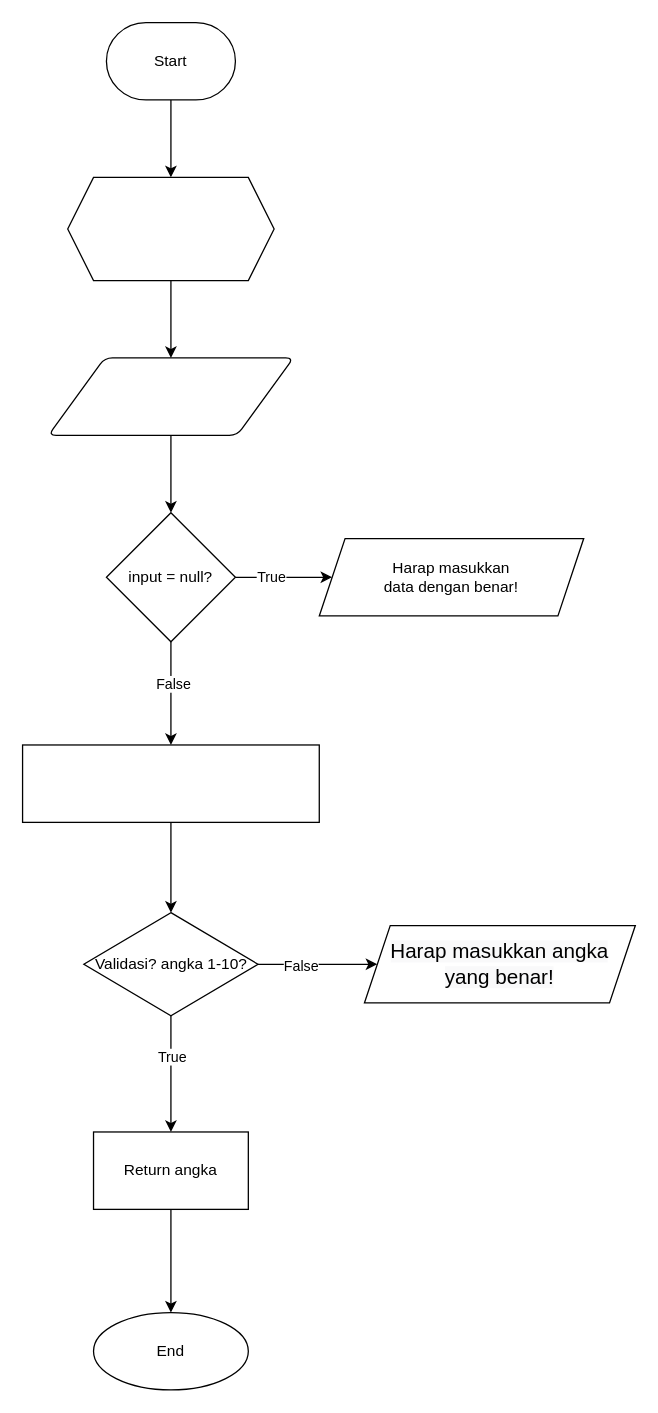
Some shapes in this 658 by 1413 pixel diagram are drawn without their labels. Each missing label, with the centre of its shape:
"float angka, char input" belongs at [170,228].
"input teks" belongs at [170,396].
"Konversi input ke float menggunakan strtof()" belongs at [170,783].
